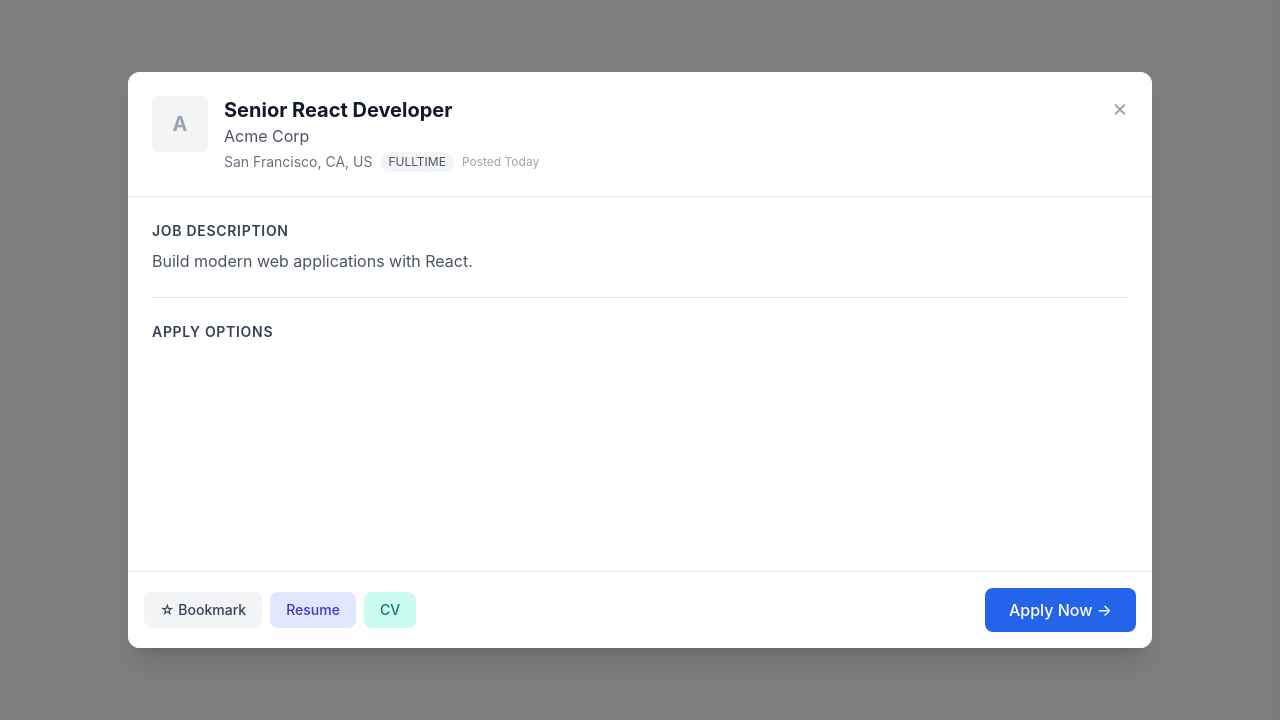
Scenario: JobDetail › shows error message when generation fails
The image size is (1280, 720).
Click the button with test id "generate-resume-btn" at (313, 610), box [270,592,356,628]
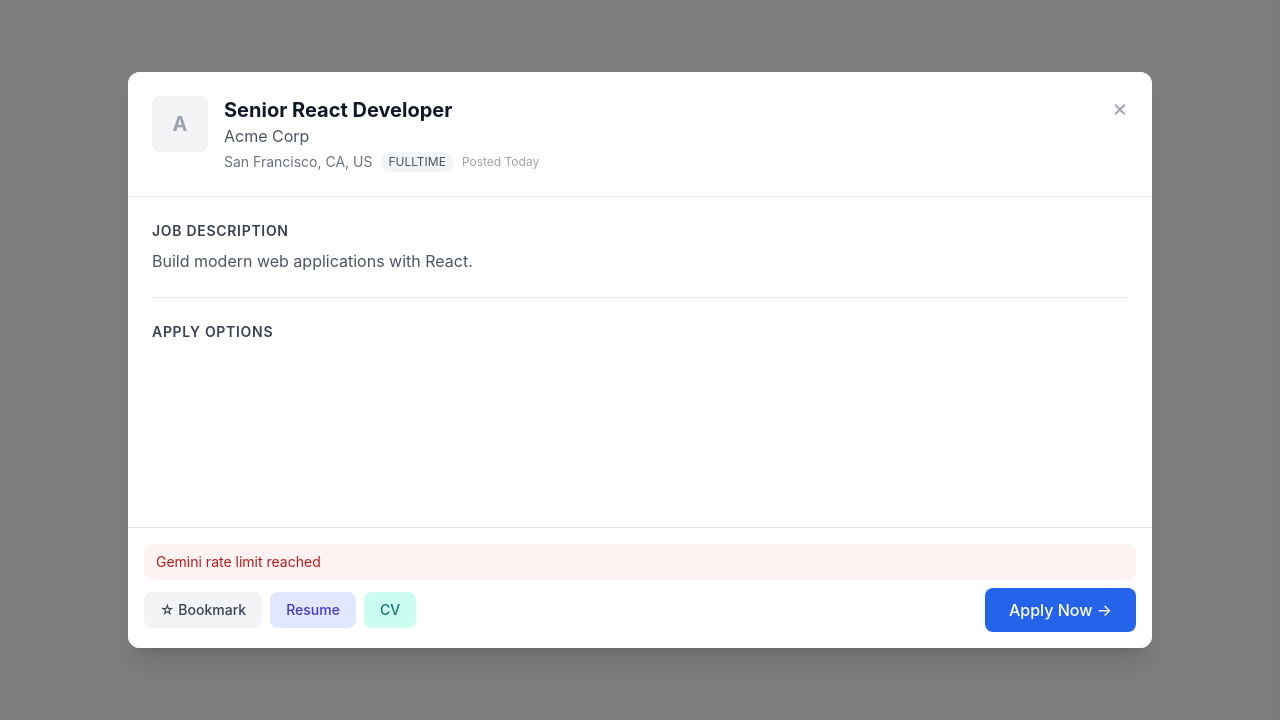
Expected: the text "Gemini rate limit reached" is shown, [144,544,1136,580]
Expected: the text with test id "doc-message" reads "Gemini rate limit reached", [156,553,321,570]
